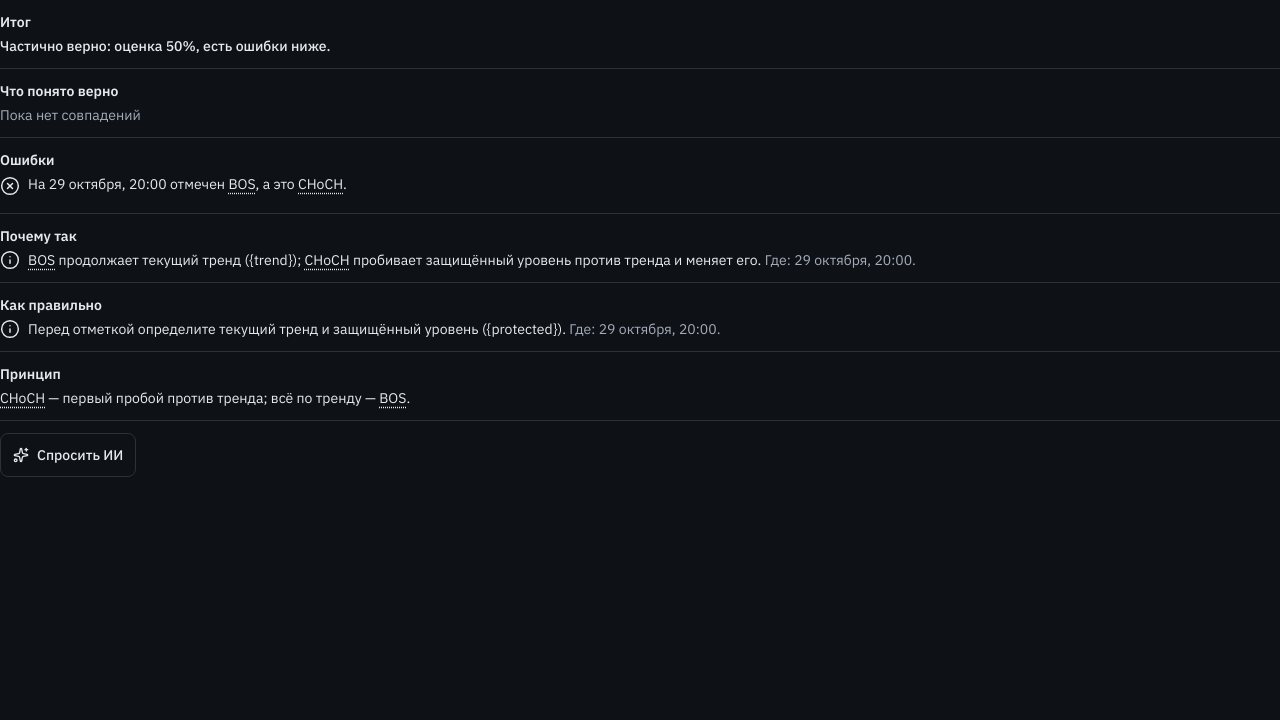
it: AskAi › лимит исчерпан и ошибка показываются
Click the button with test id "ask-ai-open" at (68, 455), box [0,433,136,477]
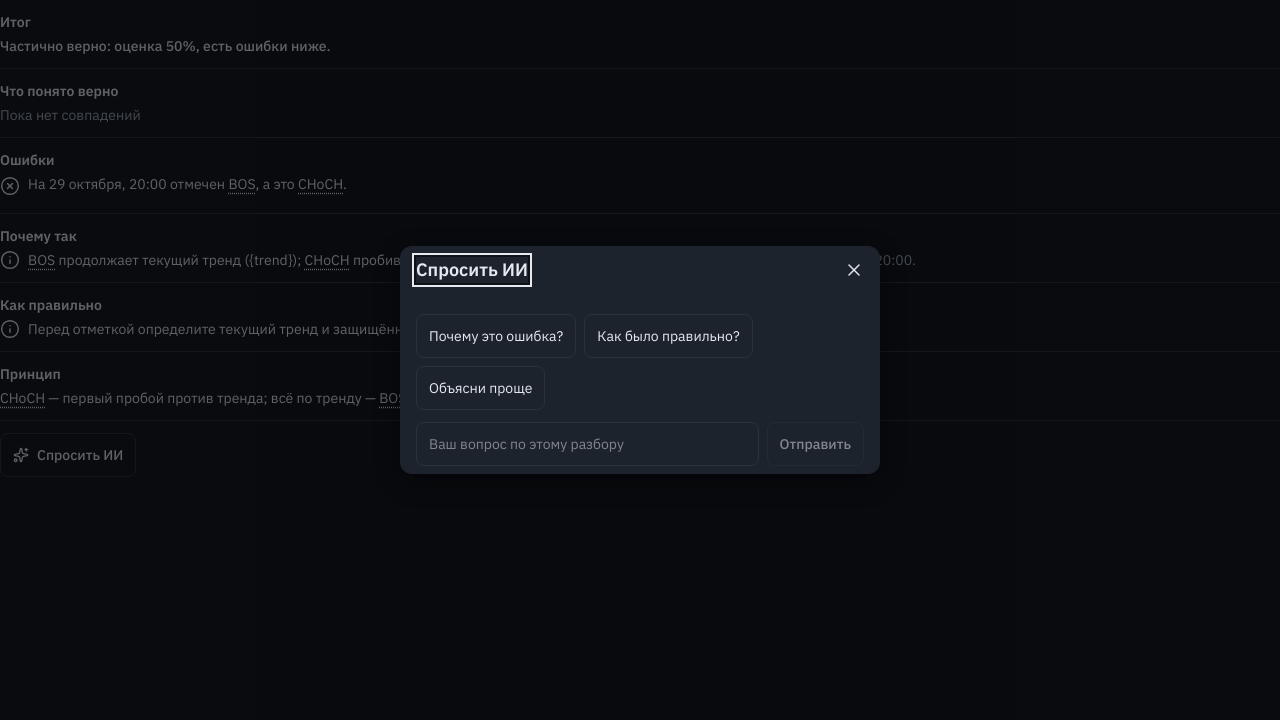
Click the button "Объясни проще" at (481, 388), box [416,366,545,410]
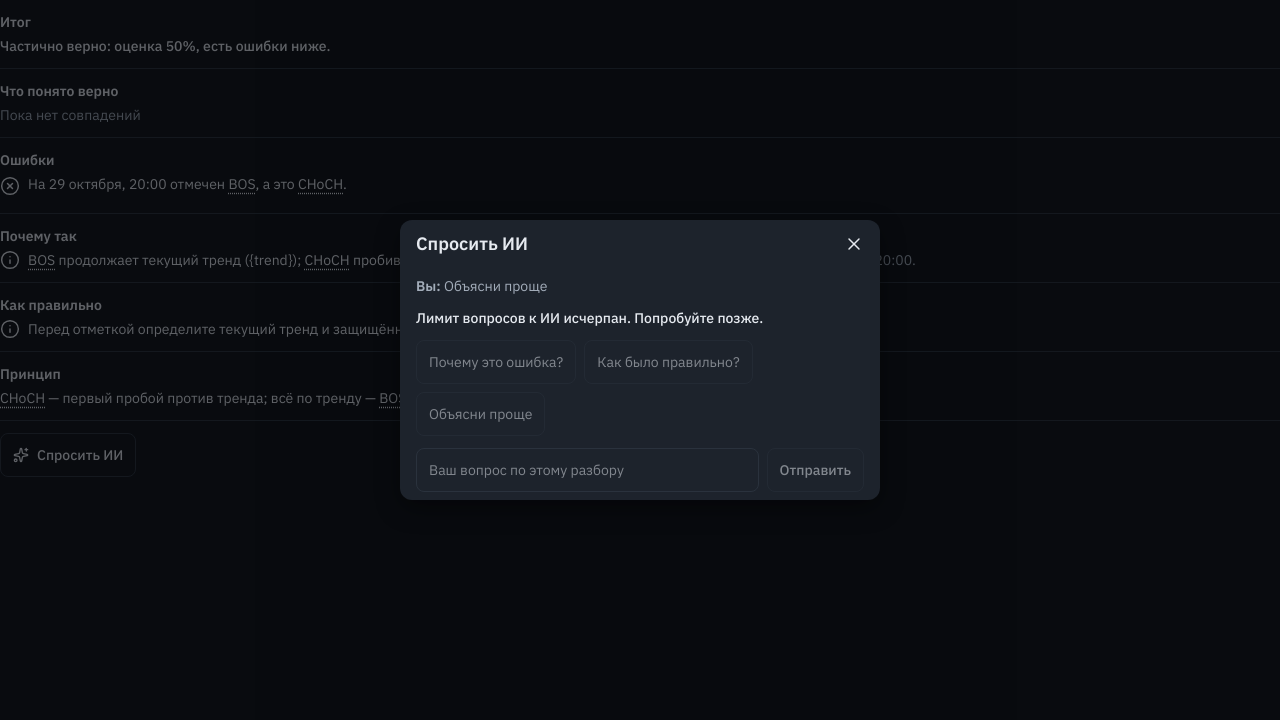
Expected: the message with test id "ask-ai-error" shows "Лимит", [416,309,763,327]
